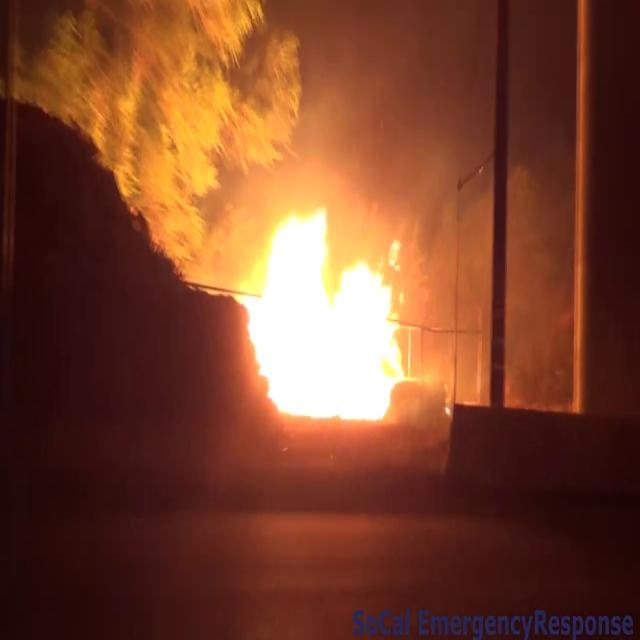Fire: (235, 198, 418, 432)
Smoke: (300, 0, 550, 280)
